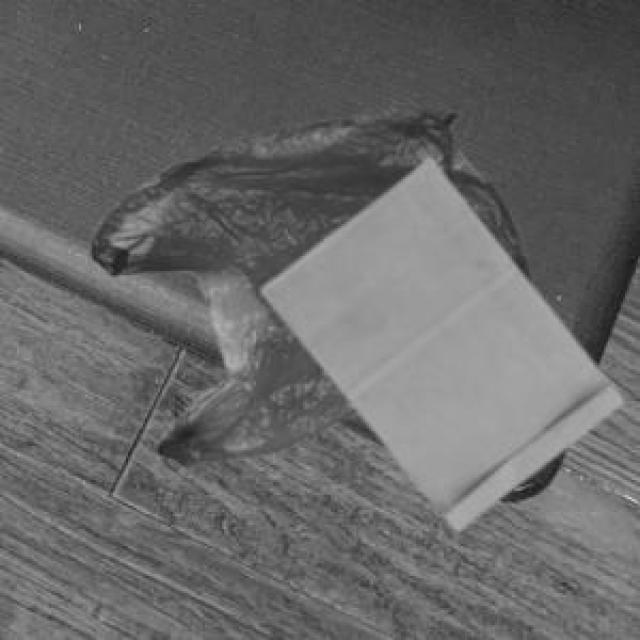paper: (258, 156, 617, 525)
